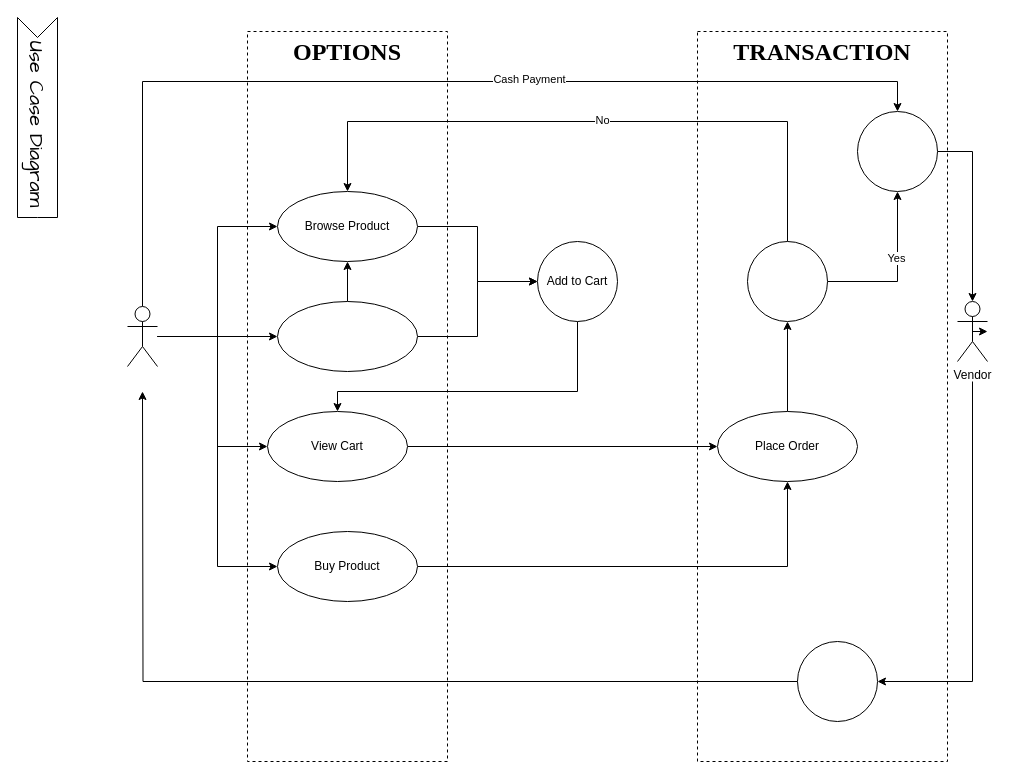
Image size: 1013x779. Some labels were removed from this diagram. Here are the shapes that lost their labels. From the top down, the centre of each, then its label:
(x=897, y=151): Payment
(x=787, y=281): Confirm Order from Vendor
(x=142, y=336): Customer
(x=347, y=336): Search Product
(x=837, y=681): Send Product
